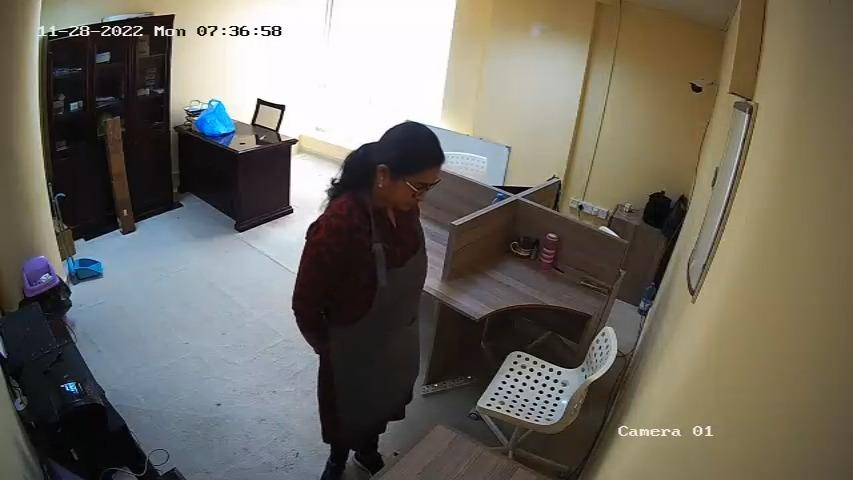apron: (320, 209, 425, 401)
